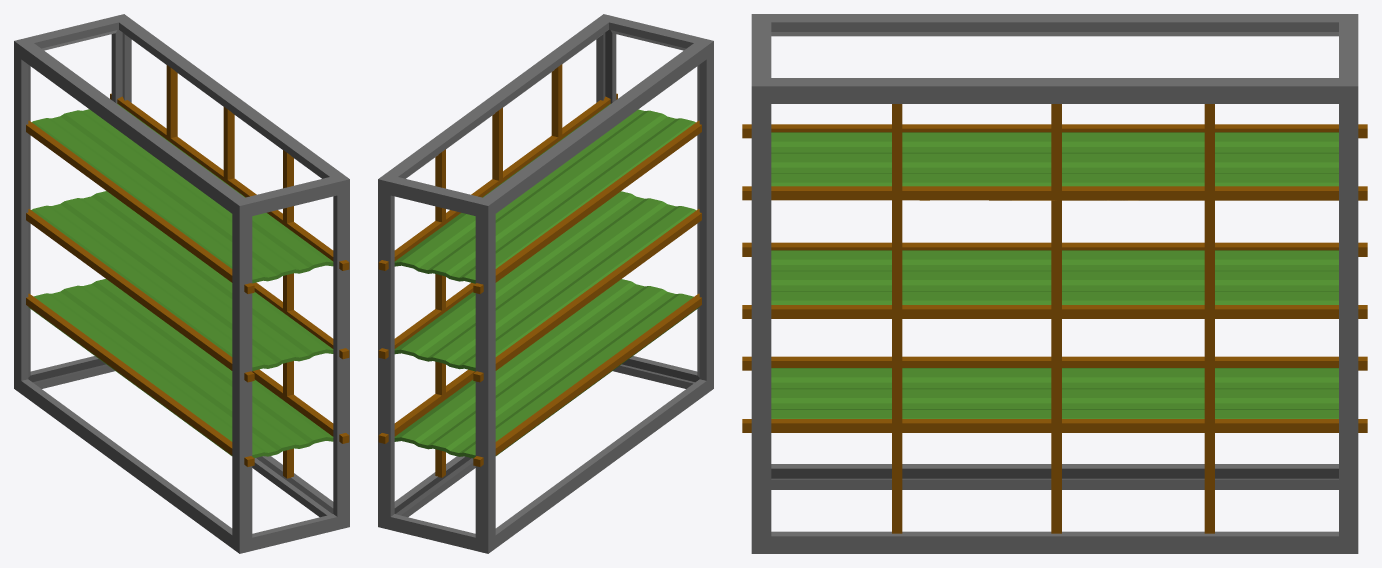
File: warehouse_shelves2.fbx
The picture shows the model from 3 angles, left to right: view 1: azimuth 30°, elevation 25°; view 2: azimuth 150°, elevation 25°; view 3: azimuth 270°, elevation 25°; orthographic projection. The views are drawn at different scales.
Parts seen in each view (by area): view 1: Cube.034, Cube.049, Cube.033, Cube.035, Cube.036; view 2: Cube.034, Cube.049, Cube.033, Cube.035, Cube.036; view 3: Cube.034, Cube.049, Cube.035, Cube.033, Cube.036.
Boxes of the visible parts, left/top/right/bottom form: Cube.034: left=28, top=103, right=333, bottom=458; Cube.049: left=14, top=14, right=349, bottom=553; Cube.033: left=26, top=120, right=254, bottom=466; Cube.035: left=110, top=93, right=349, bottom=443; Cube.036: left=166, top=65, right=293, bottom=478; Cube.034: left=394, top=104, right=699, bottom=458; Cube.049: left=378, top=14, right=713, bottom=553; Cube.033: left=473, top=120, right=701, bottom=466; Cube.035: left=378, top=93, right=617, bottom=443; Cube.036: left=435, top=64, right=562, bottom=477; Cube.034: left=771, top=132, right=1338, bottom=418; Cube.049: left=751, top=14, right=1358, bottom=553; Cube.035: left=742, top=186, right=1367, bottom=432; Cube.033: left=742, top=124, right=1367, bottom=370; Cube.036: left=892, top=104, right=1214, bottom=533.
Size of the model in its own units: 94.76 by 286 by 346.
